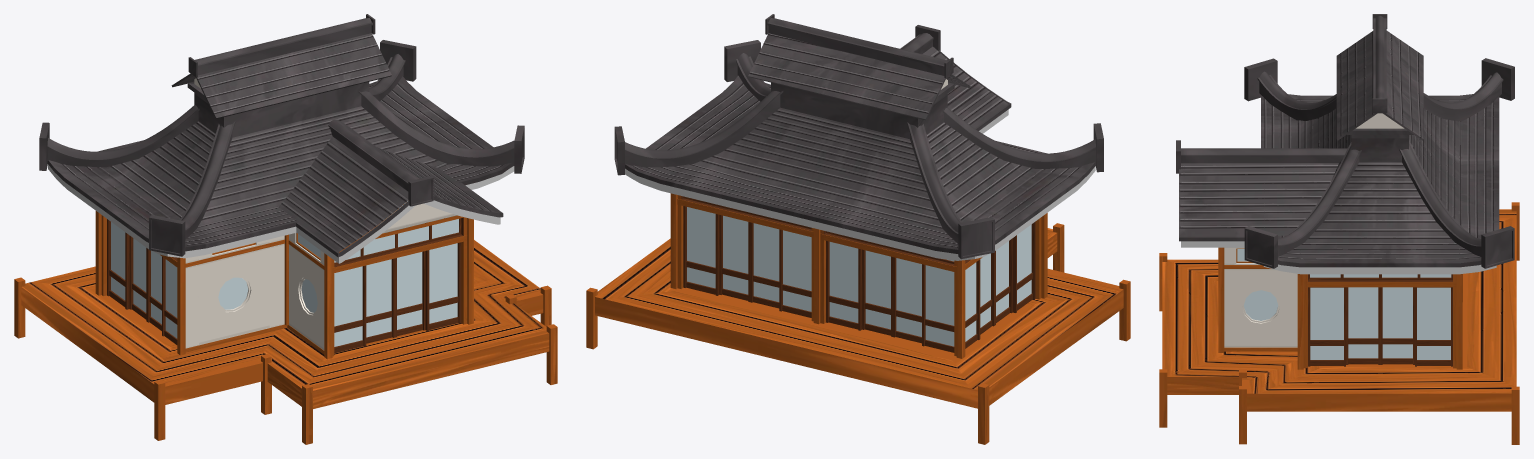
The model's file is house.glb.
3 views of the same model, side by side, from view 1: azimuth 30°, elevation 25°; view 2: azimuth 150°, elevation 25°; view 3: azimuth 270°, elevation 25° (orthographic). The views are drawn at different scales.
Visible parts, largest first — view 1: roof2_Material #12_0, floor_Material #2_0, roof5_Material #13_0, wall_Material #3_0, Glass_Material #14_0, fram door center003_Material #4_0, fram door center002_Material #4_0, fram door right003_Material #6_0, roof3_Material #9_0, fram door left002_Material #5_0, fram up005_Material #7_0, fram door left003_Material #5_0; view 2: roof2_Material #12_0, floor_Material #2_0, roof5_Material #13_0, Glass_Material #14_0, wall_Material #3_0, fram door center001_Material #4_0, fram door center_Material #4_0, fram door center002_Material #4_0, fram door left001_Material #5_0, fram door left_Material #5_0, fram door right001_Material #6_0, fram door right_Material #6_0 (+4 smaller); view 3: roof2_Material #12_0, floor_Material #2_0, roof5_Material #13_0, Glass_Material #14_0, wall_Material #3_0, fram door center004_Material #4_0, fram door left004_Material #5_0, fram up002_Material #7_0, fram door right004_Material #6_0.
Part boxes in pixels (x1,y1,x2,y2): roof2_Material #12_0: (47,33,514,257); floor_Material #2_0: (14,225,557,444); roof5_Material #13_0: (39,14,524,263); wall_Material #3_0: (95,211,473,359); Glass_Material #14_0: (111,215,458,346); fram door center003_Material #4_0: (366,250,427,343); fram door center002_Material #4_0: (129,236,161,330); fram door right003_Material #6_0: (427,242,461,331); roof3_Material #9_0: (339,203,456,252); fram door left002_Material #5_0: (107,219,129,309); fram up005_Material #7_0: (334,217,463,267); fram door left003_Material #5_0: (334,265,366,353); roof2_Material #12_0: (625,33,1095,253); floor_Material #2_0: (586,223,1130,444); roof5_Material #13_0: (614,14,1103,260); Glass_Material #14_0: (687,207,1031,346); wall_Material #3_0: (670,193,1047,358); fram door center001_Material #4_0: (719,215,779,308); fram door center_Material #4_0: (862,249,921,343); fram door center002_Material #4_0: (980,236,1015,334); fram door left001_Material #5_0: (683,206,719,295); fram door left_Material #5_0: (826,241,861,330); fram door right001_Material #6_0: (779,229,811,317); fram door right_Material #6_0: (922,264,954,352); roof2_Material #12_0: (1179,31,1499,267); floor_Material #2_0: (1159,202,1519,444); roof5_Material #13_0: (1176,14,1514,274); Glass_Material #14_0: (1237,249,1451,359); wall_Material #3_0: (1218,247,1462,369); fram door center004_Material #4_0: (1346,287,1414,364); fram door left004_Material #5_0: (1308,287,1345,366); fram up002_Material #7_0: (1308,274,1452,281); fram door right004_Material #6_0: (1415,287,1452,366).
Bounding box in the file's own units: 11.18 × 8.17 × 9.08.
8 materials, 7 textured.
